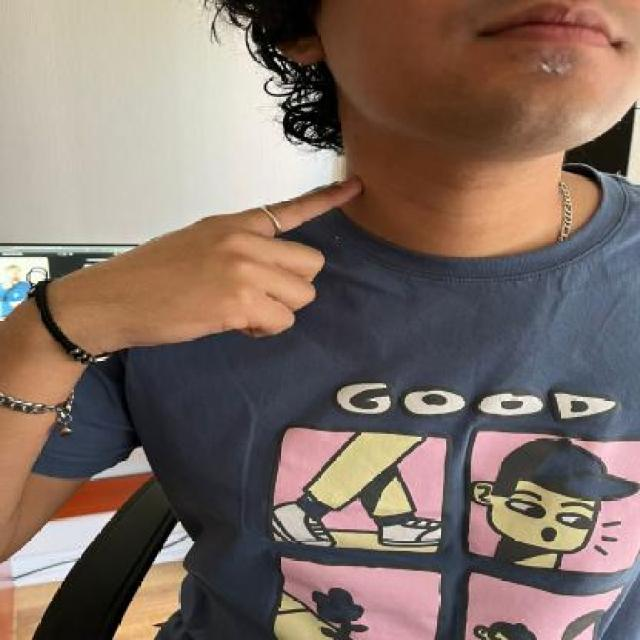Q: (60, 165, 378, 370)
